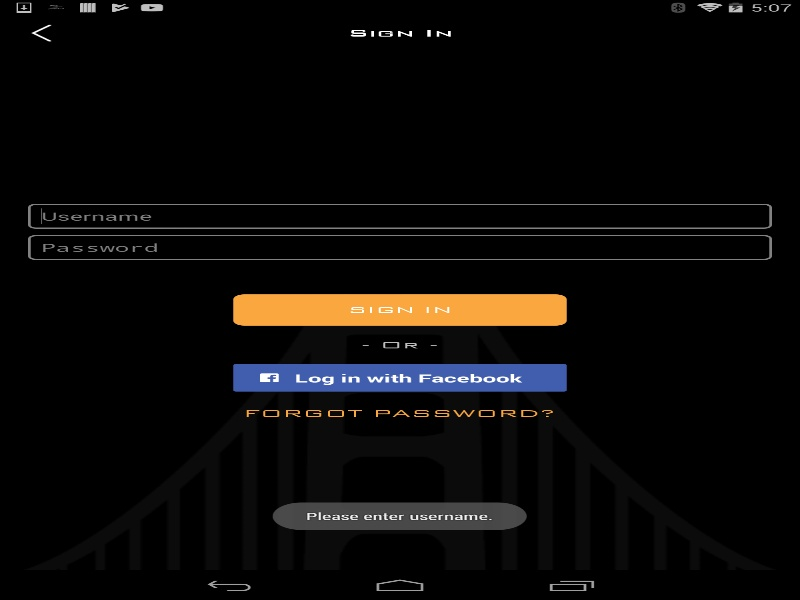Button: (233, 294, 566, 325), (233, 364, 566, 391), (21, 23, 61, 42)
Input: (28, 203, 772, 228), (28, 235, 772, 260)
